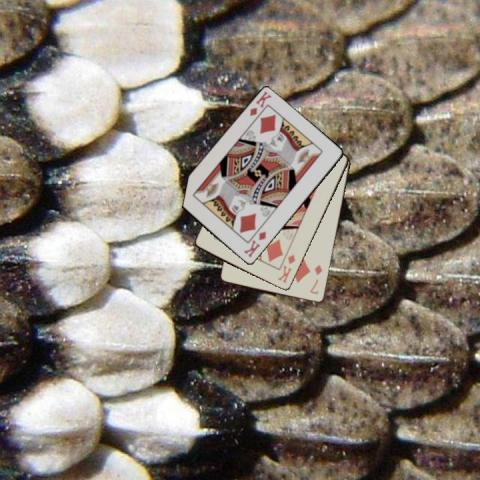7d: (307, 262, 324, 296)
Kd: (274, 251, 297, 285), (241, 229, 267, 259), (247, 88, 273, 118)
